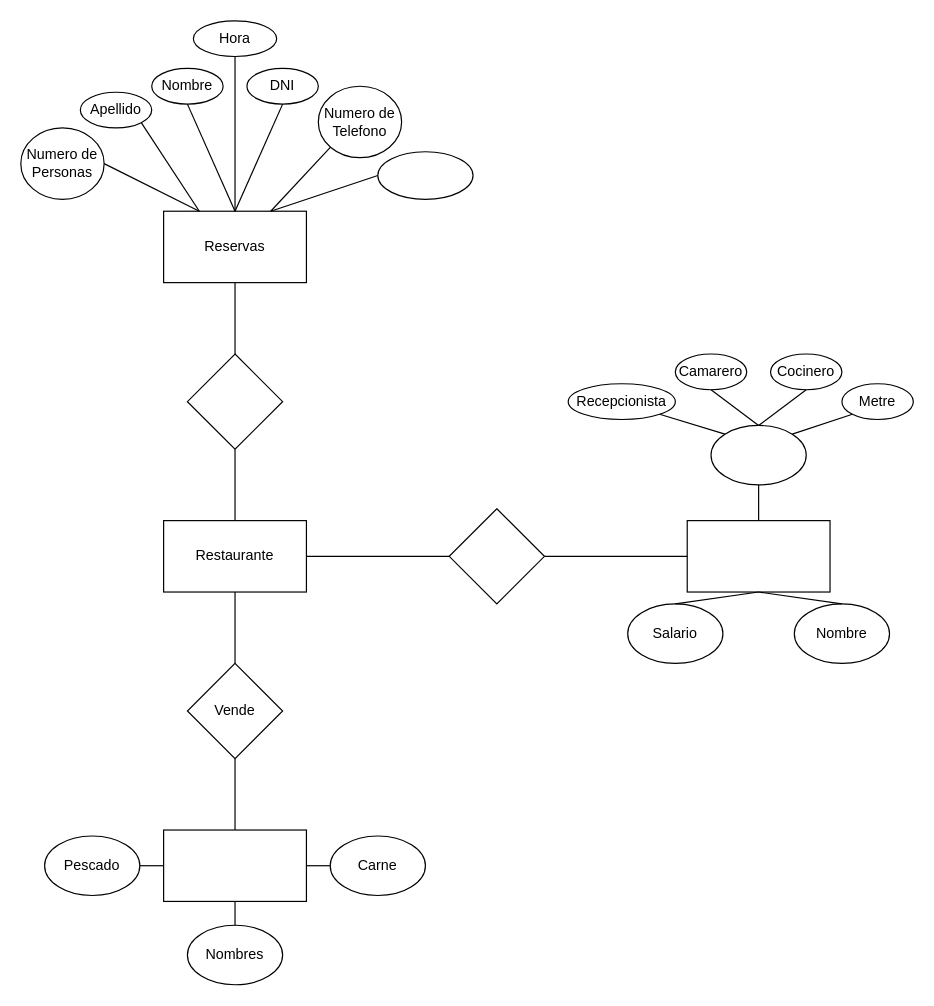
Image size: 934x1006. Some labels were removed from this diagram. Here are the shapes that lost their labels. From the top down, the box of each, then its label:
(377, 151, 473, 199): Correo Electronico
(186, 353, 283, 449): Come
(710, 424, 806, 485): Puesto
(448, 508, 544, 604): Trabajan
(686, 519, 830, 592): Empleados
(162, 829, 306, 901): Comida
